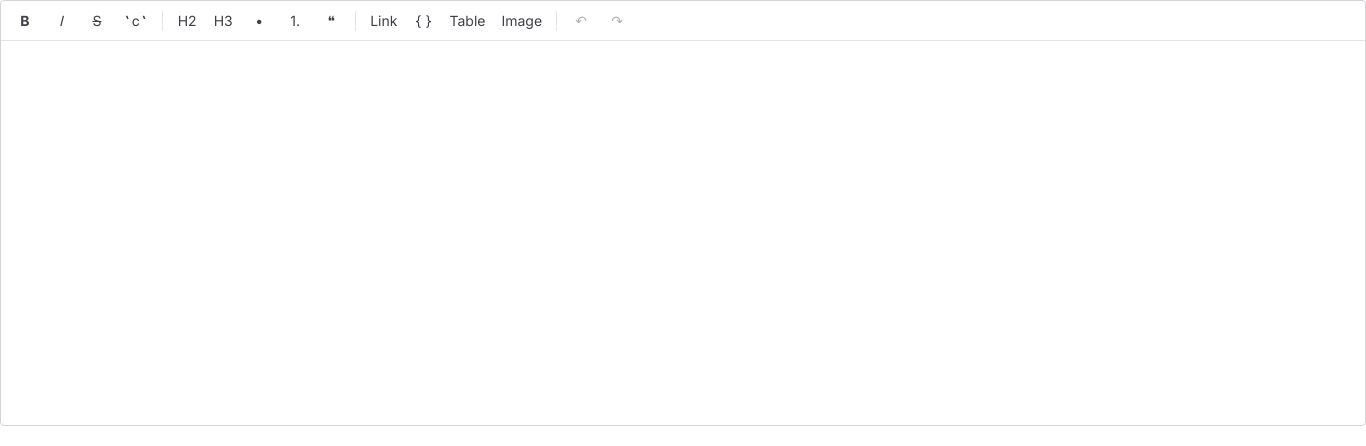
Test case: Editor › shows table controls inside a table
What coordinates should you click on to do the following:
click the button "Table"
I would click on:
 (468, 20)
Its box is top-left (444, 6), bottom-right (492, 34).
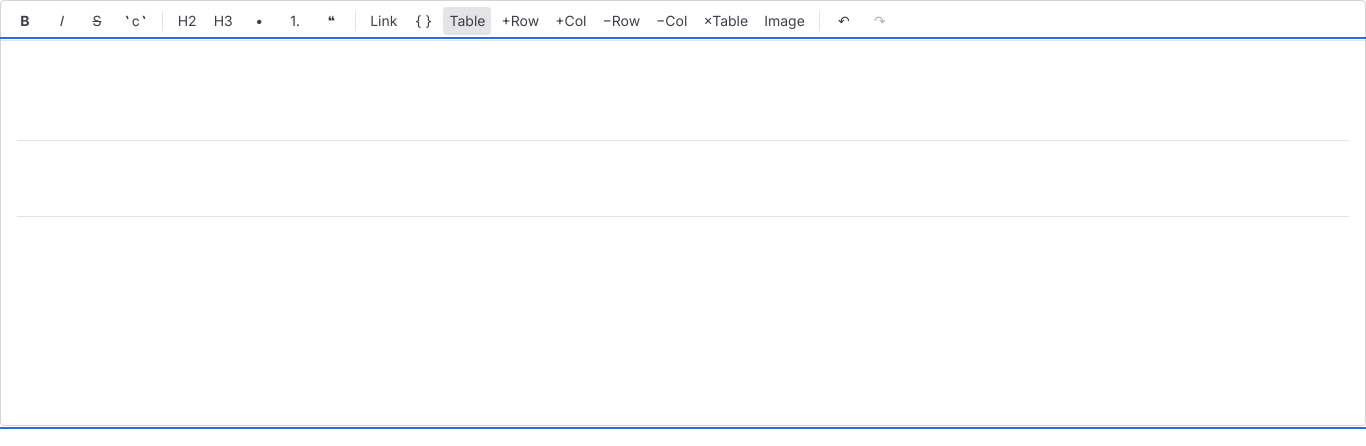
Expected: the button with aria-label "Add row" is shown, top-left (496, 6), bottom-right (545, 34)
Expected: the button with aria-label "Delete table" is shown, top-left (697, 6), bottom-right (754, 34)
